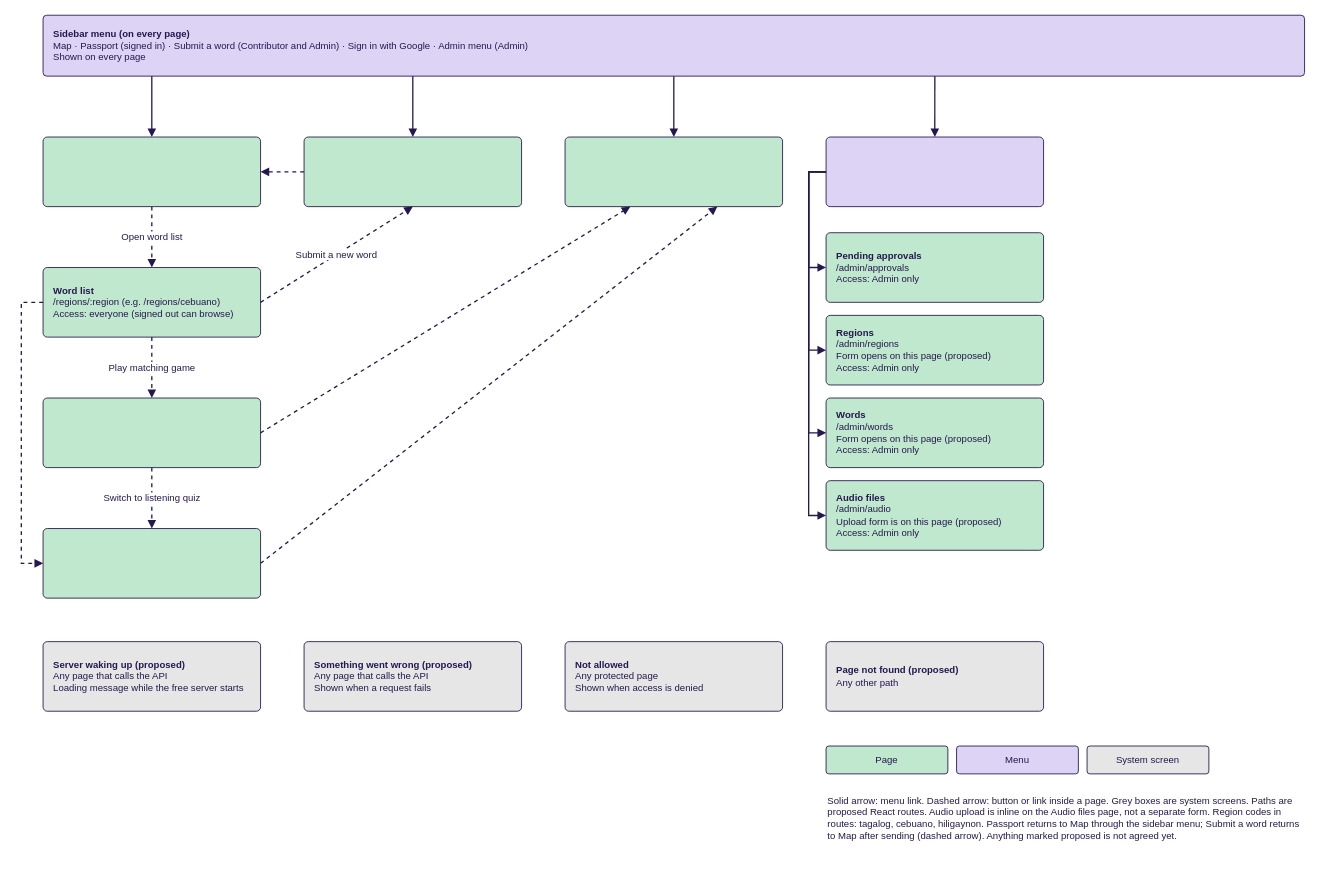
Some shapes in this 1321 by 887 pixel diagram are drawn without their labels. Each missing label, with the box of its shape:
Admin menu (shown in the sidebar): (825, 136, 1044, 207)
Choose a region (Map) / Access: everyone (signed out can browse): (42, 136, 261, 207)
Listening quiz /play/listening/:region Access: signed in: (42, 528, 261, 598)
Matching game /play/matching/:region Access: signed in: (42, 397, 261, 468)
My passport /passport Access: signed in: (564, 136, 783, 207)
Submit a word /submit Access: Contributor and Admin only: (303, 136, 522, 207)
